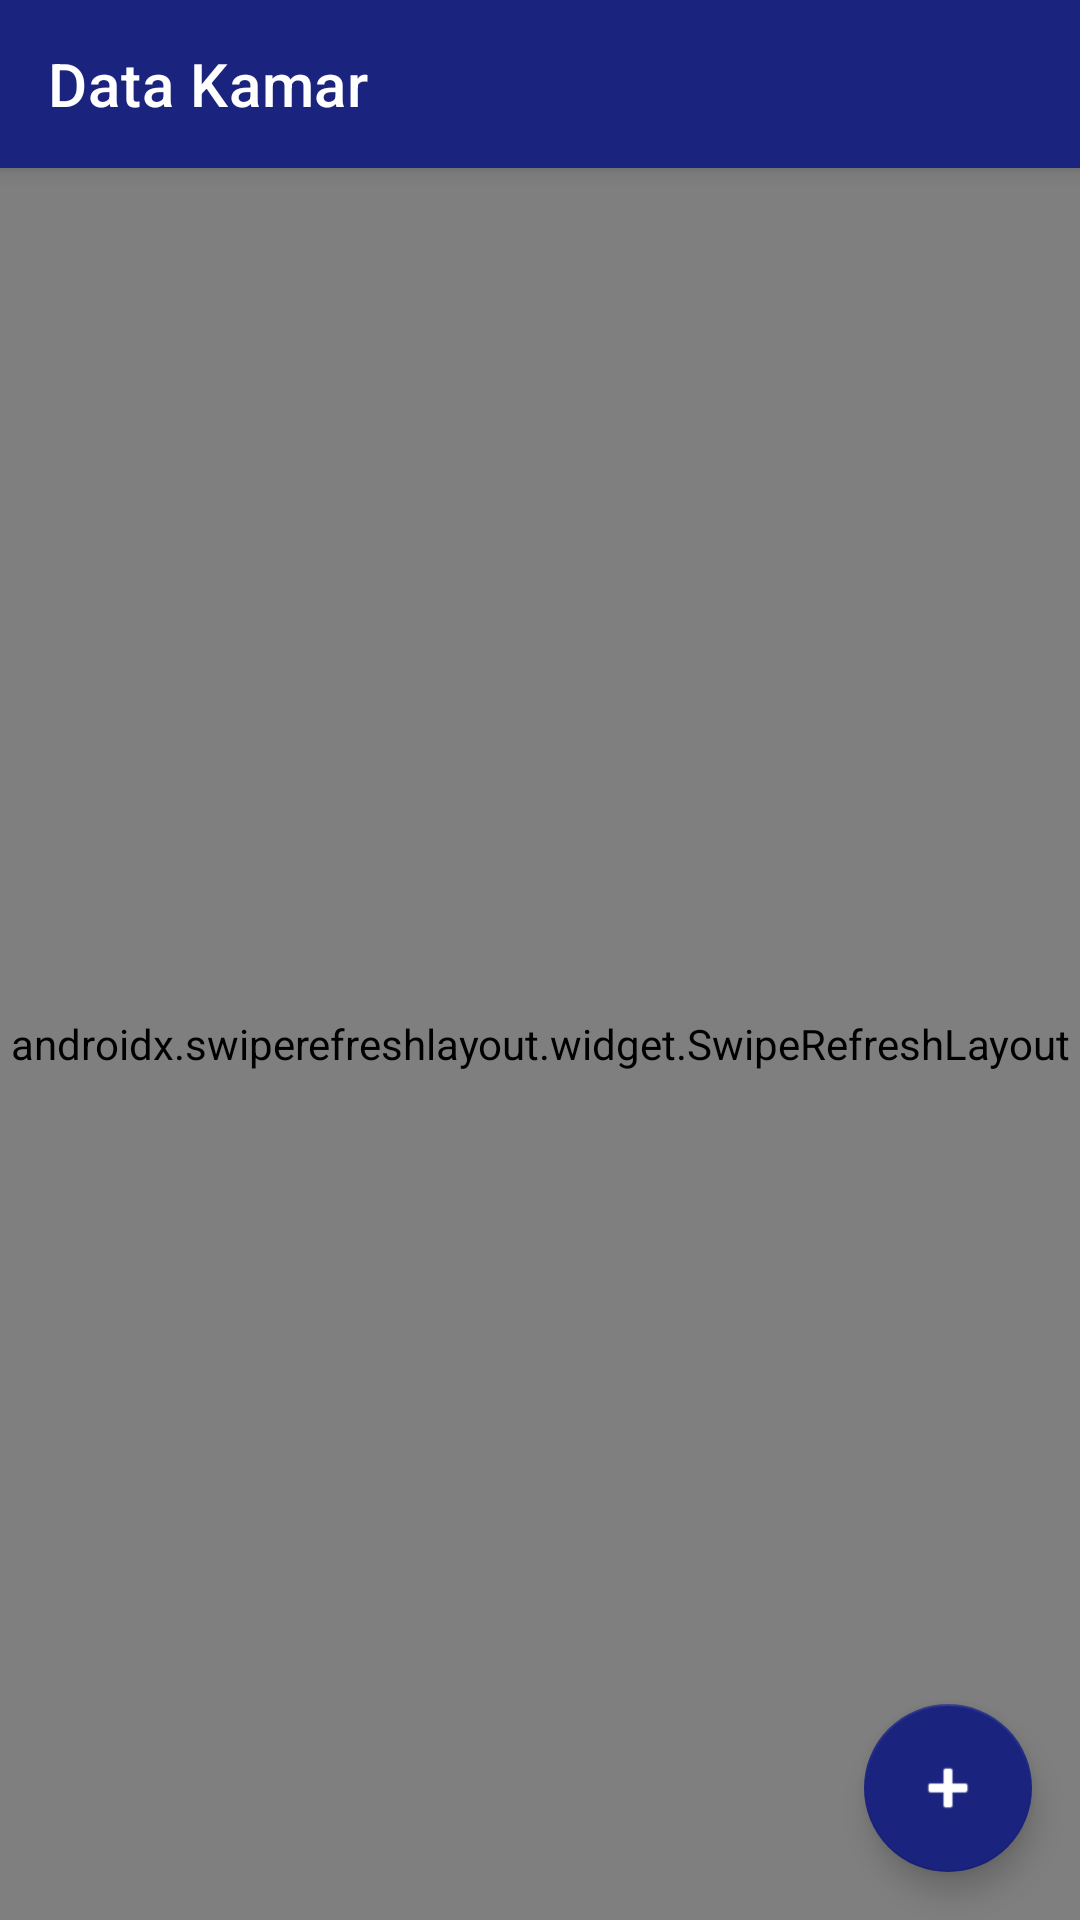

Point at icon controls on the screen. Image size 1080x1920, points as (x,y).
Tambah Kamar: (948,1788)
